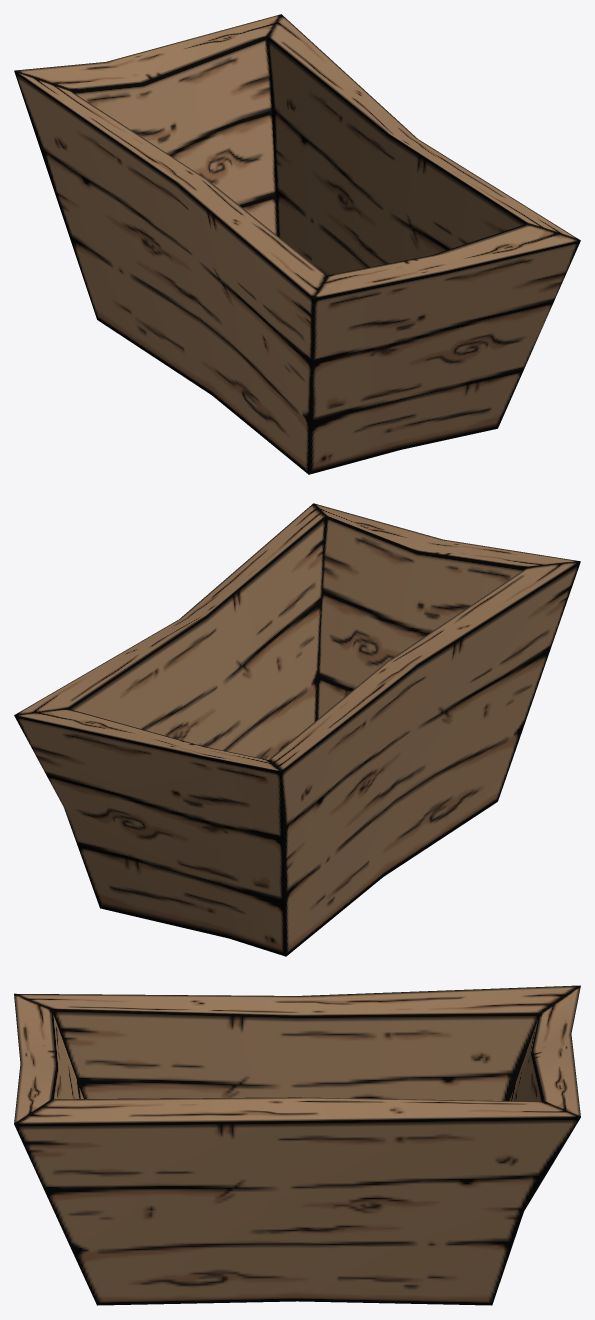
The model's file is koryto1_bez.fbx.
The picture shows the model from 3 angles, top to bottom: view 1: azimuth 30°, elevation 25°; view 2: azimuth 150°, elevation 25°; view 3: azimuth 270°, elevation 25°; orthographic projection. The views are drawn at different scales.
Parts seen in each view (by area): view 1: koryto1 bez; view 2: koryto1 bez; view 3: koryto1 bez.
Boxes of the visible parts, <box> form: koryto1 bez: <box>14,14,580,474</box>; koryto1 bez: <box>14,503,580,956</box>; koryto1 bez: <box>14,985,580,1305</box>.
Size of the model in its own units: 141 by 114 by 274.
Materials: 1 (1 with a texture image).
